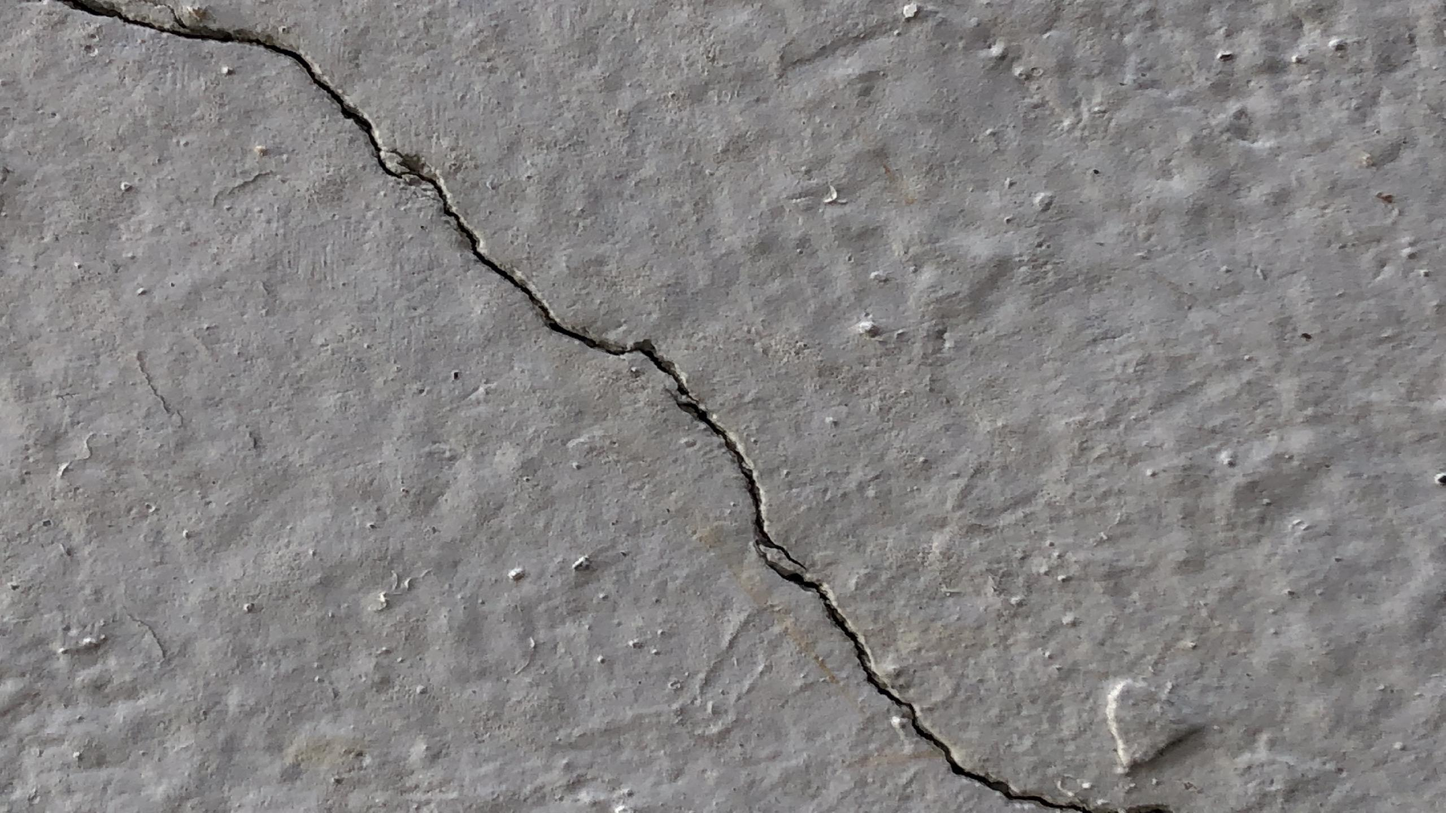crack: (181, 26, 1163, 812)
